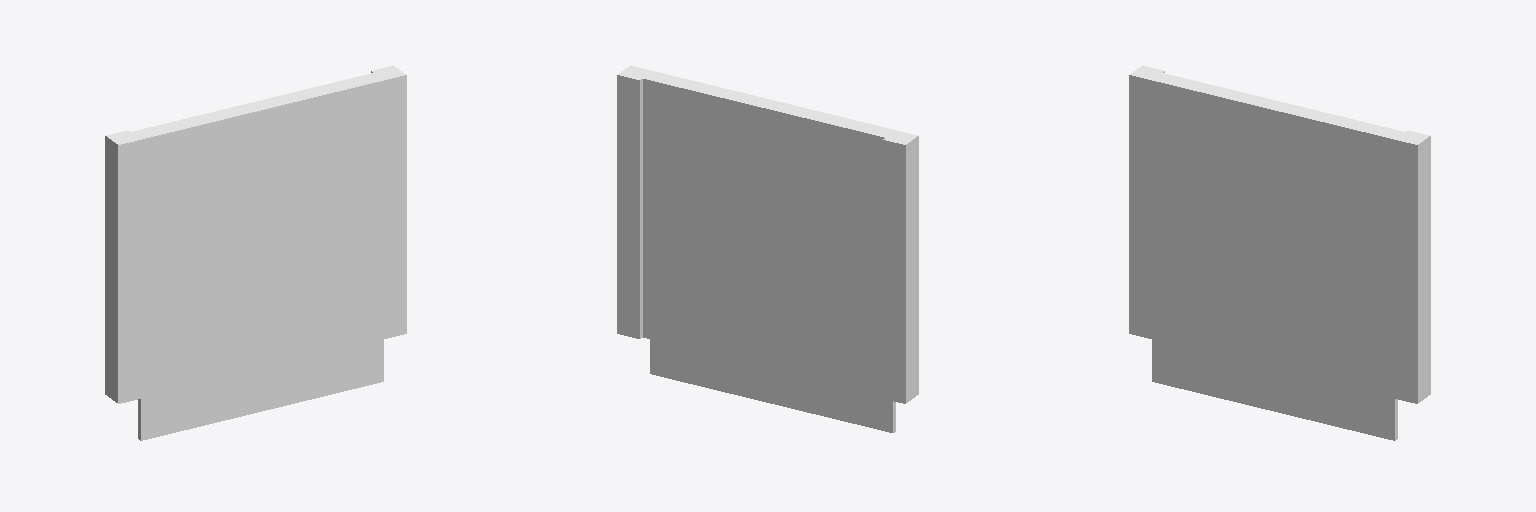
The model's file is Wall-N.obj.
The picture shows the model from 3 angles: view 1: azimuth 30°, elevation 25°; view 2: azimuth 150°, elevation 25°; view 3: azimuth 330°, elevation 25°; orthographic projection.
Size of the model in its own units: 64 by 64 by 5.